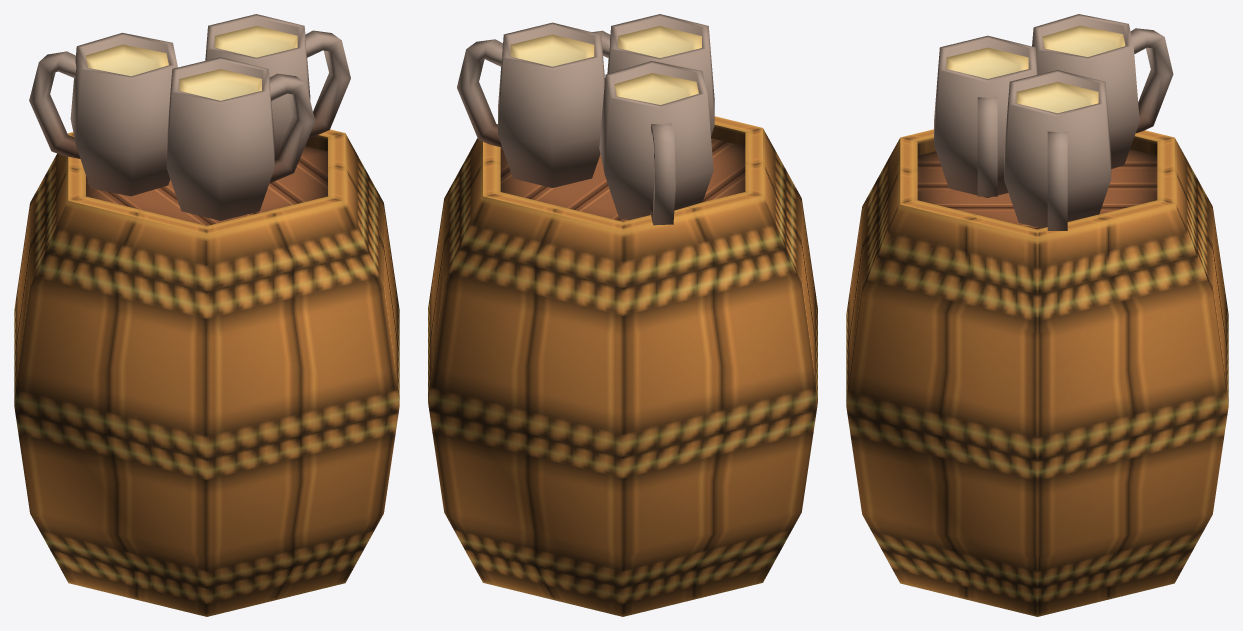
Rendered from Barrel_with_Beer.FBX.
3 renders of one model, left to right at view 1: azimuth 30°, elevation 25°; view 2: azimuth 150°, elevation 25°; view 3: azimuth 270°, elevation 25°, orthographic.
Visible parts, largest first — view 1: Barrel_with_Beer; view 2: Barrel_with_Beer; view 3: Barrel_with_Beer.
Part boxes in pixels (left/top/right/bottom): Barrel_with_Beer: left=14, top=14, right=399, bottom=616; Barrel_with_Beer: left=428, top=14, right=817, bottom=616; Barrel_with_Beer: left=846, top=14, right=1228, bottom=616.
Bounding box in the file's own units: 134 × 162 × 116.
